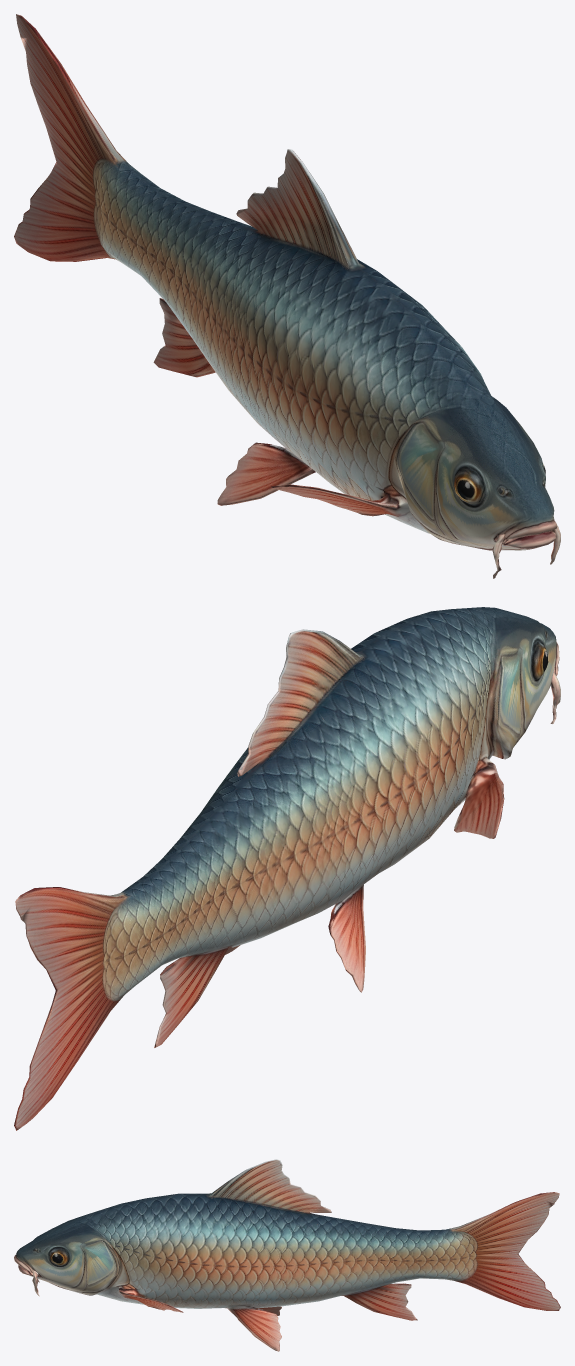
The model's file is fisch_original.glb.
3 views of the same model, one above another, from view 1: azimuth 30°, elevation 25°; view 2: azimuth 150°, elevation 25°; view 3: azimuth 270°, elevation 25° (orthographic). The views are drawn at different scales.
Size of the model in its own units: 0.23 by 0.3359 by 0.9526.
Materials: 1 (1 with a texture image).
